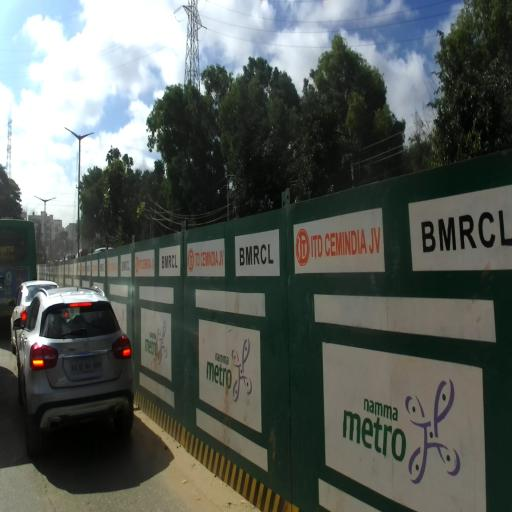street_light_0: (64, 126, 81, 141), (79, 132, 94, 142), (34, 196, 45, 206), (44, 198, 57, 206)
